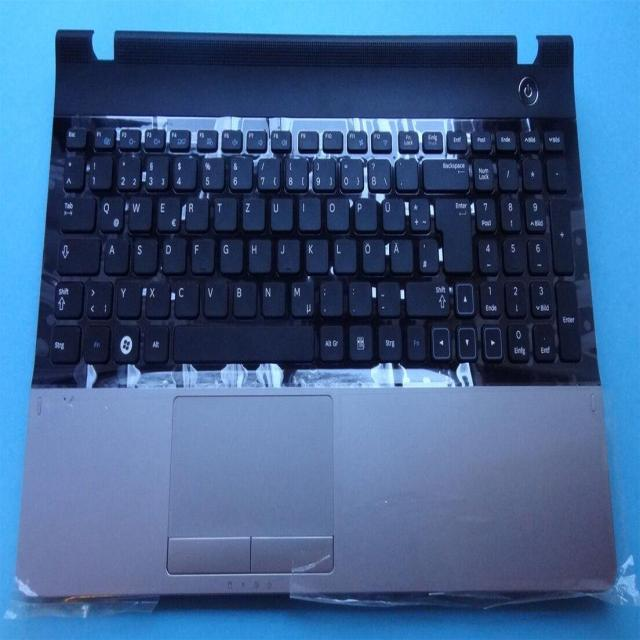0: (337, 153, 362, 189)
1: (86, 152, 111, 187)
2: (114, 150, 139, 187)
3: (142, 151, 167, 188)
4: (170, 151, 195, 187)
5: (198, 154, 223, 188)
6: (227, 152, 251, 188)
7: (255, 153, 279, 187)
8: (282, 153, 306, 188)
9: (309, 154, 334, 188)
a: (102, 234, 127, 272)
accent: (393, 154, 416, 188)
ae: (389, 235, 413, 271)
alt-left: (141, 320, 167, 360)
altgr-right: (317, 321, 342, 358)
b: (230, 277, 255, 315)
c: (172, 277, 197, 315)
caret: (61, 152, 82, 187)
comma: (316, 275, 341, 315)
d: (159, 233, 184, 271)
del: (421, 155, 467, 188)
e: (154, 193, 179, 229)
enter: (434, 193, 471, 271)
f: (189, 234, 213, 271)
g: (218, 235, 241, 271)
h: (245, 235, 270, 271)
hash: (415, 233, 437, 271)
i: (296, 192, 319, 229)
j: (274, 234, 298, 271)
k: (304, 235, 327, 271)
keyboard: (42, 110, 588, 381)
l: (331, 234, 355, 271)
less: (84, 276, 111, 316)
m: (288, 276, 313, 315)
minus: (374, 277, 398, 313)
n: (259, 278, 284, 314)
o: (323, 193, 347, 228)
oe: (360, 235, 384, 272)
p: (352, 194, 376, 229)
plus: (407, 193, 428, 228)
point: (346, 277, 370, 314)
q: (97, 193, 123, 230)
r: (183, 196, 207, 230)
s: (131, 235, 155, 272)
shift-left: (51, 277, 81, 316)
shift-lock: (54, 233, 98, 273)
shift-right: (404, 276, 449, 314)
space: (171, 320, 314, 359)
ss: (365, 155, 389, 189)
strg-left: (47, 320, 79, 361)
strg-right: (376, 319, 401, 358)
t: (212, 193, 236, 228)
tab: (57, 191, 93, 229)
u: (267, 194, 292, 229)
ue: (380, 194, 404, 229)
v: (201, 276, 226, 315)
w: (126, 191, 150, 229)
x: (143, 278, 168, 316)
y: (114, 277, 140, 316)
z: (240, 192, 264, 229)
